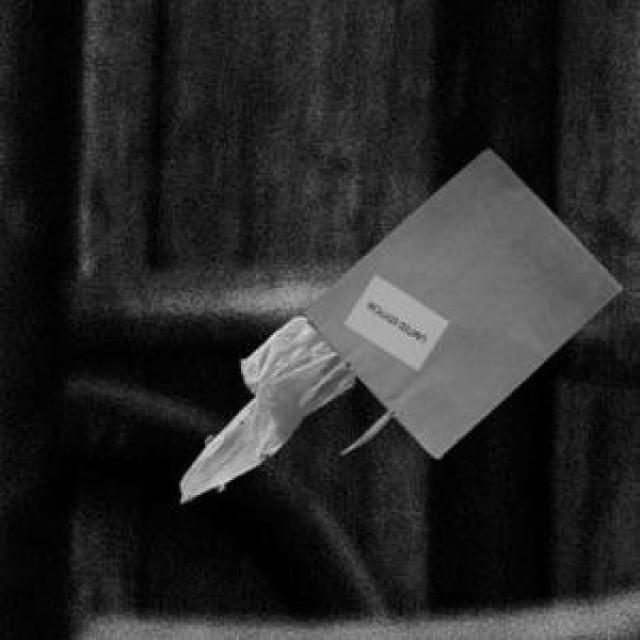paper: (294, 145, 619, 454)
